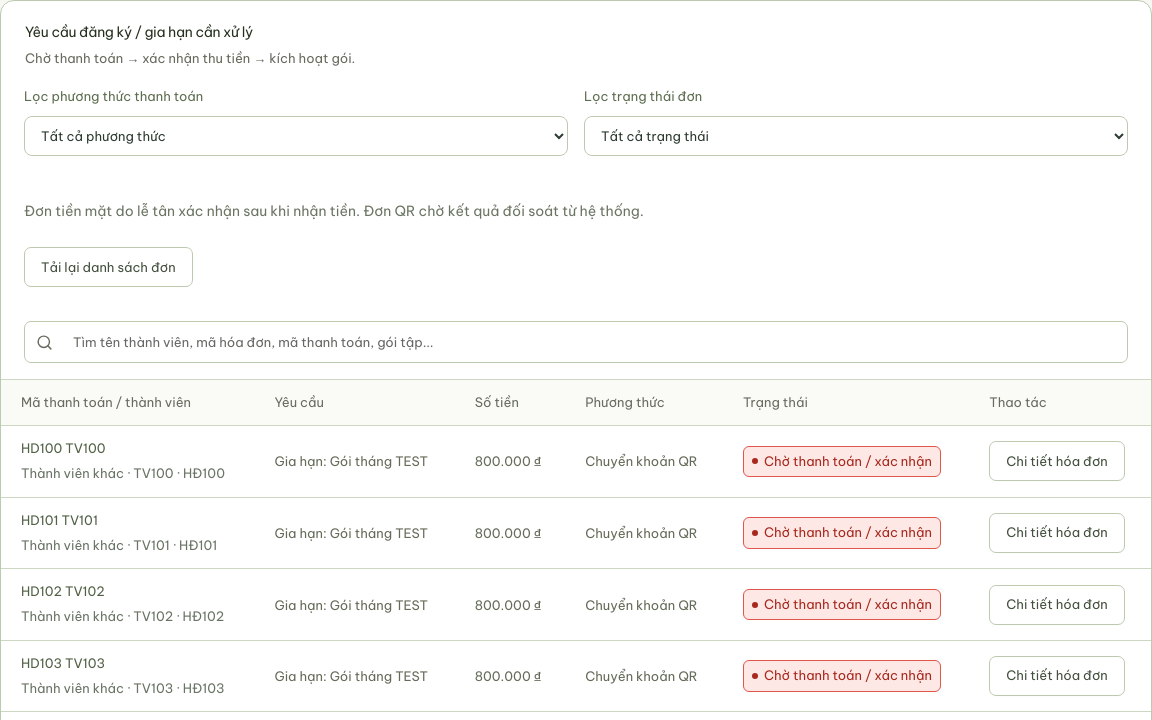
Scenario: Phần FE còn thiếu của luồng thanh toán › finds an older member order by unaccented name across all pages
Expected: the text "HD100 TV100" is shown, [21,440,106,456]
Expected: the text "HD30 TV4" is not shown
Type "le hoang nam" into the field with placeholder "Tìm tên thành viên, mã hóa đơn, mã thanh toán, gói tập..." at (588, 342), box [61,322,1116,362]
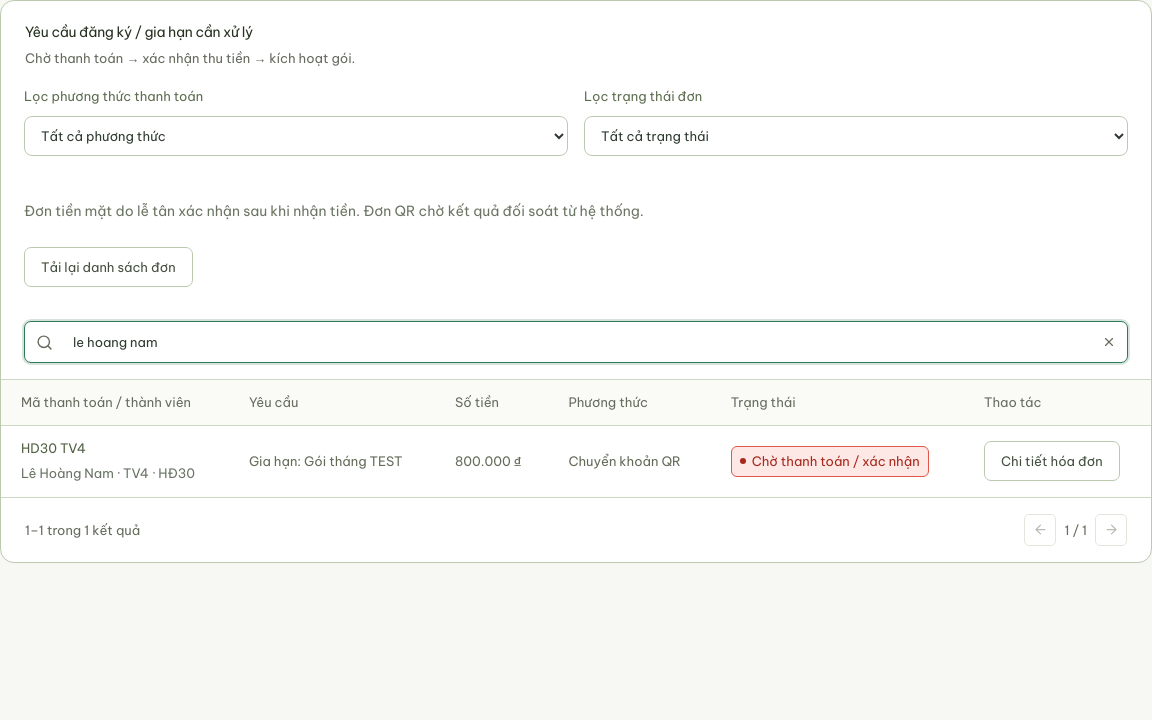
Expected: the text "HD30 TV4" is shown, [21,440,86,456]
Expected: the text "HD100 TV100" is gone
